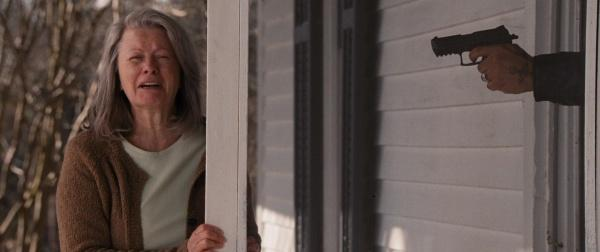Gun: (430, 26, 519, 67)
